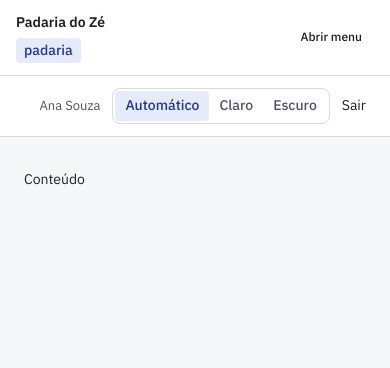
Test: AppShell › abre e fecha o menu no celular
Click the button "Abrir menu" at [331, 38], box [289,22,374,54]
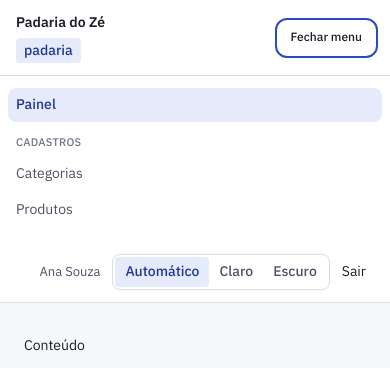
expect the button "Fechar menu" is expanded: met, box [279,22,374,54]
